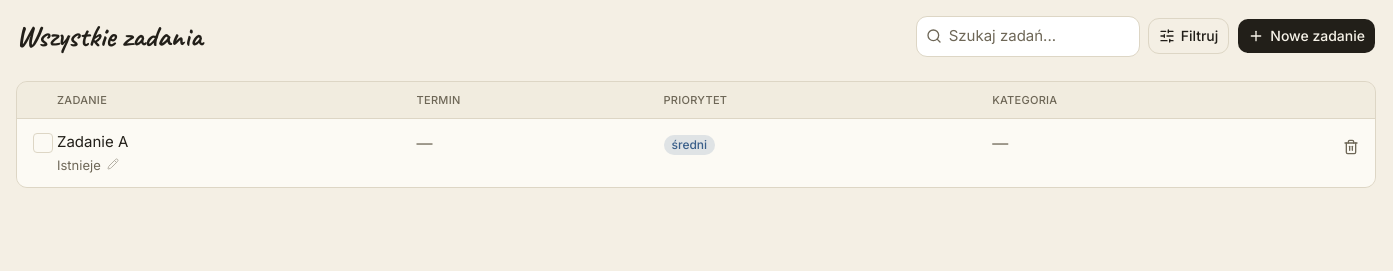
AllTasksPage / TaskTable (P-E) › tabela: klik notatki do edycji NIE otwiera pełnej edycji zadania (stopPropagation)
The width and height of the screenshot is (1393, 271).
Click the button with aria-label "Edytuj notatkę zadania" at (88, 165), box [57,156,119,175]
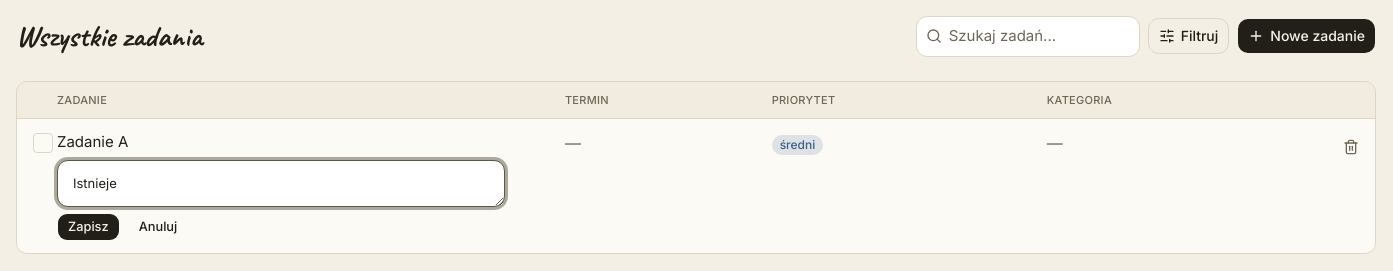
Check: the text box named "Notatka zadania" is shown, box [57,160,505,207]
